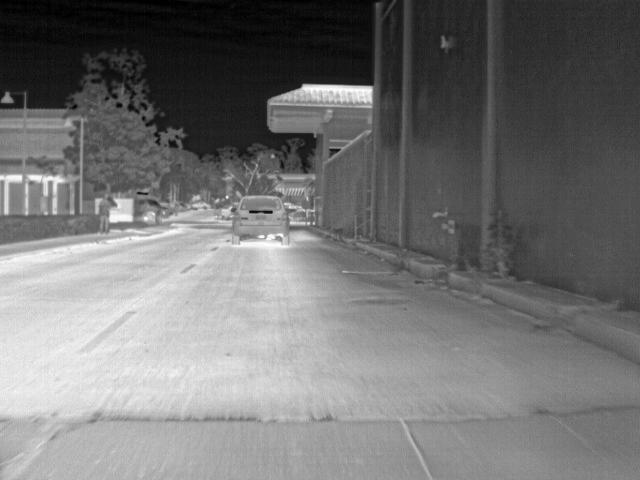car: (232, 193, 290, 245), (288, 207, 307, 224), (191, 200, 212, 212), (220, 206, 233, 222)
person: (96, 192, 112, 234), (172, 198, 181, 216)
